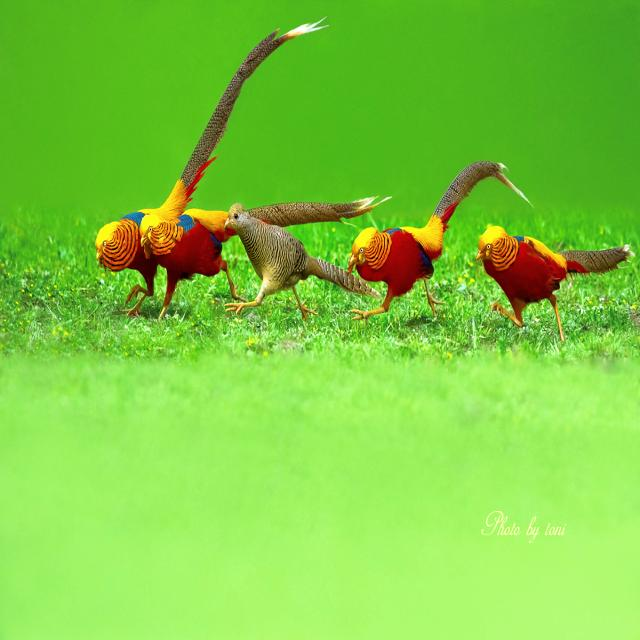Chrysolophus pictus feather: (181, 22, 324, 188), (434, 162, 529, 223), (249, 198, 388, 227), (559, 245, 633, 272)
